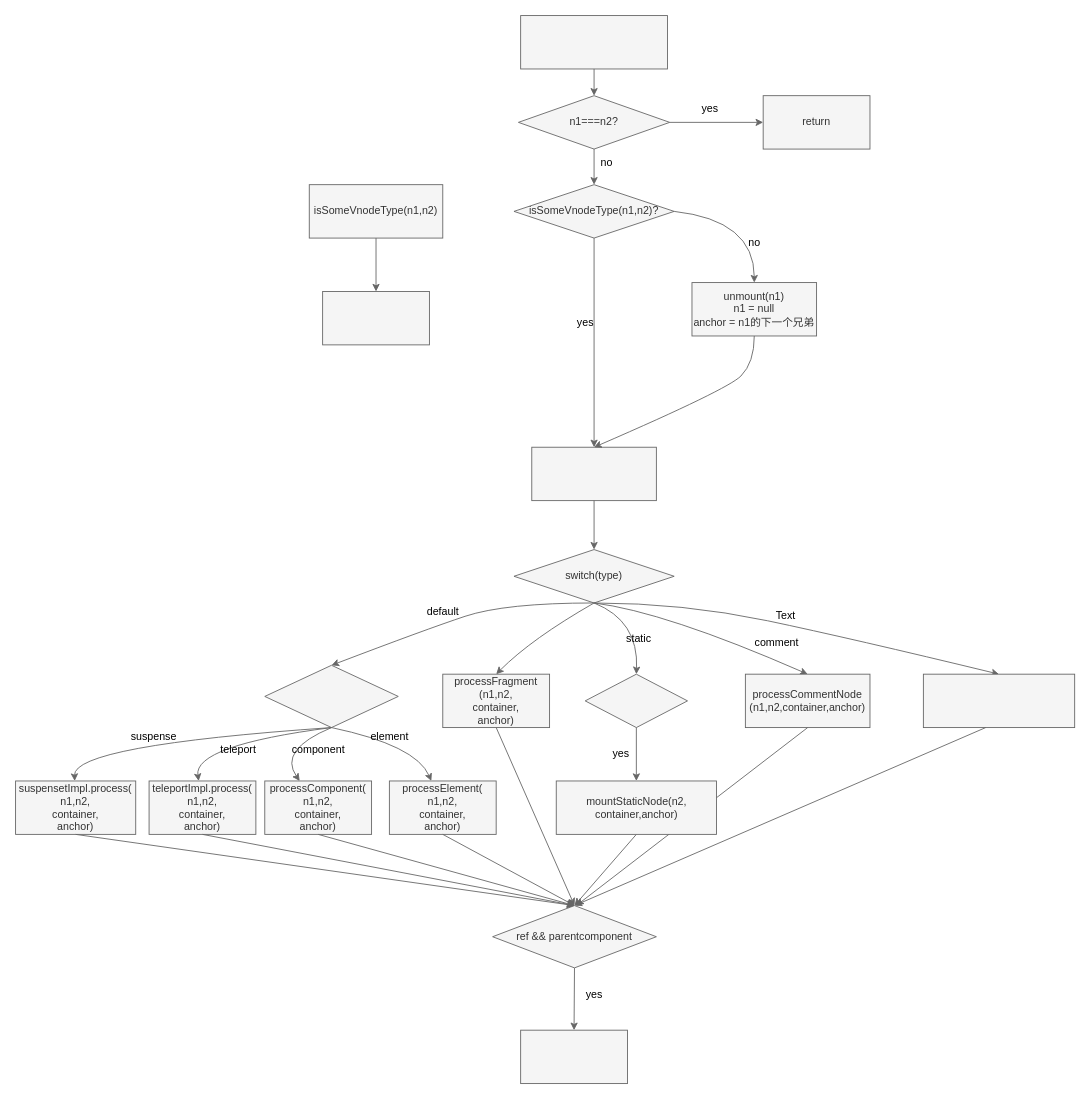
Image size: 1090x1099. Some labels were removed from this diagram. Each missing label, with the centre of its shape:
n1===null?: point (636, 700)
patch(n1,n2,container,anchor): point (594, 42)
processText (n1,n2,container,anchor): point (998, 700)
return n1.type===n2.type && n1.key===n2.key: point (375, 318)
setRef: point (573, 1056)
shapeFlags: point (331, 696)
{type,ref,shapeFlag} = n2: point (593, 473)
